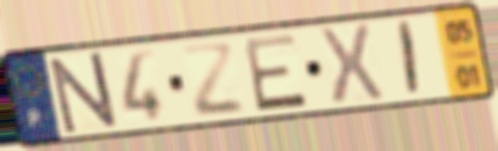4: (118, 48, 168, 125)
E: (240, 31, 311, 115)
I: (397, 18, 423, 100)
N: (46, 48, 122, 137)
X: (314, 21, 387, 109)
Z: (178, 41, 248, 120)
